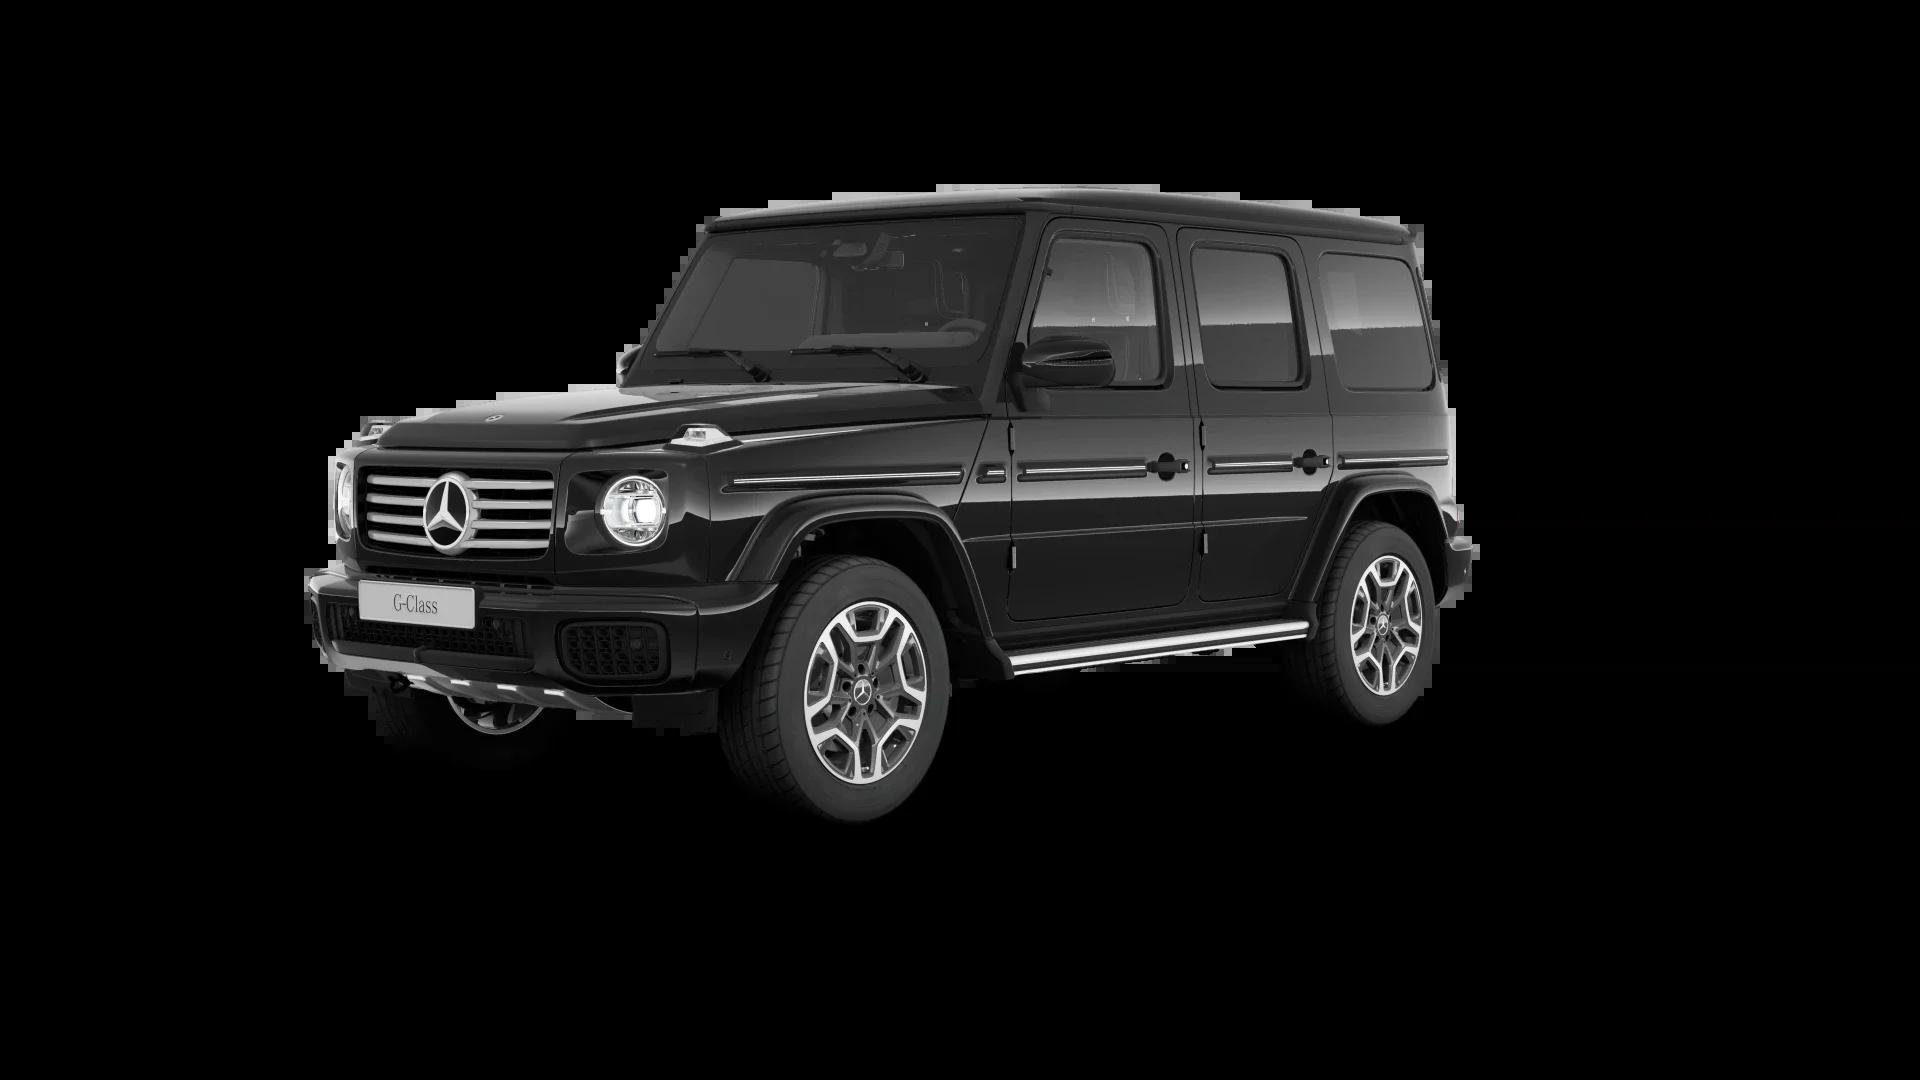car: (290, 171, 1494, 829)
